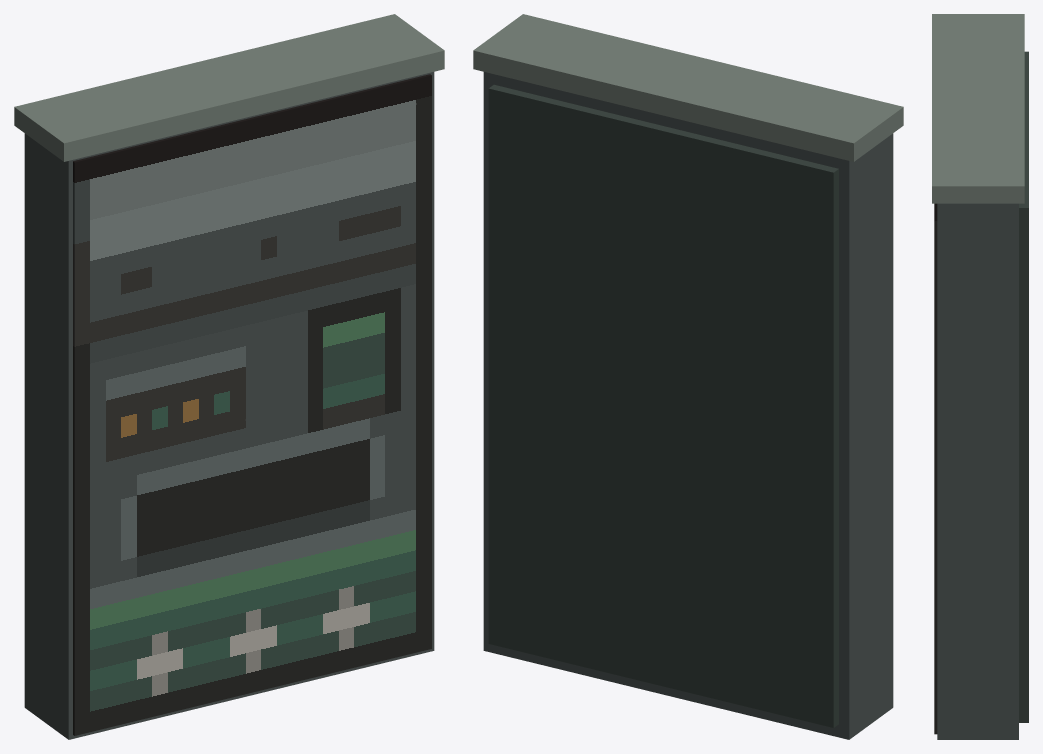
The model's file is CMU3DInteriorVehicleInteriorMedVendor.glb.
3 views of the same model, side by side, from view 1: azimuth 30°, elevation 25°; view 2: azimuth 150°, elevation 25°; view 3: azimuth 270°, elevation 25° (orthographic). The views are drawn at different scales.
Parts seen in each view (by area): view 1: source equipment controls, closed equipment casing, reinforced top; view 2: rear service plate, closed equipment casing, reinforced top; view 3: closed equipment casing, reinforced top, rear service plate, source equipment controls.
Boxes of the visible parts, x1=… form: source equipment controls: x1=73, y1=74, x2=431, y2=735; closed equipment casing: x1=24, y1=72, x2=434, y2=739; reinforced top: x1=14, y1=14, x2=444, y2=161; rear service plate: x1=488, y1=84, x2=838, y2=727; closed equipment casing: x1=483, y1=72, x2=893, y2=739; reinforced top: x1=473, y1=14, x2=903, y2=161; closed equipment casing: x1=937, y1=203, x2=1018, y2=739; reinforced top: x1=932, y1=14, x2=1024, y2=203; rear service plate: x1=1019, y1=51, x2=1028, y2=722; source equipment controls: x1=934, y1=203, x2=937, y2=734.
Bounding box in the file's own units: 0.7488 × 1.13 × 0.178.
Materials: 4 (1 with a texture image).
